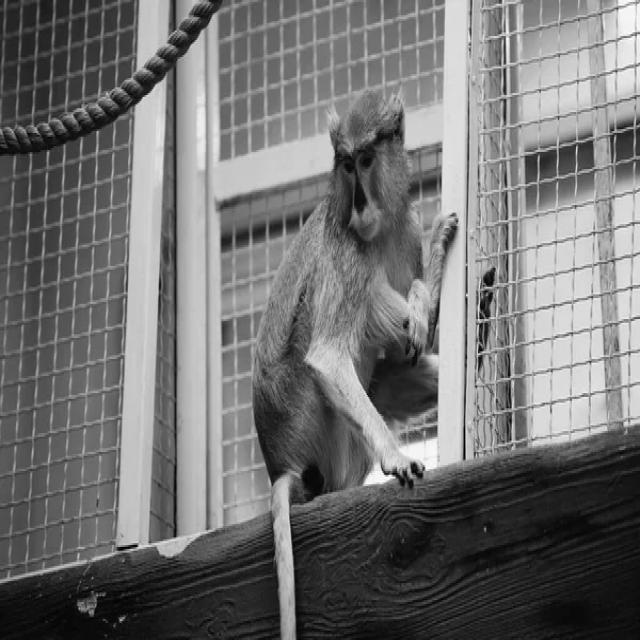Animal: (252, 89, 458, 640)
